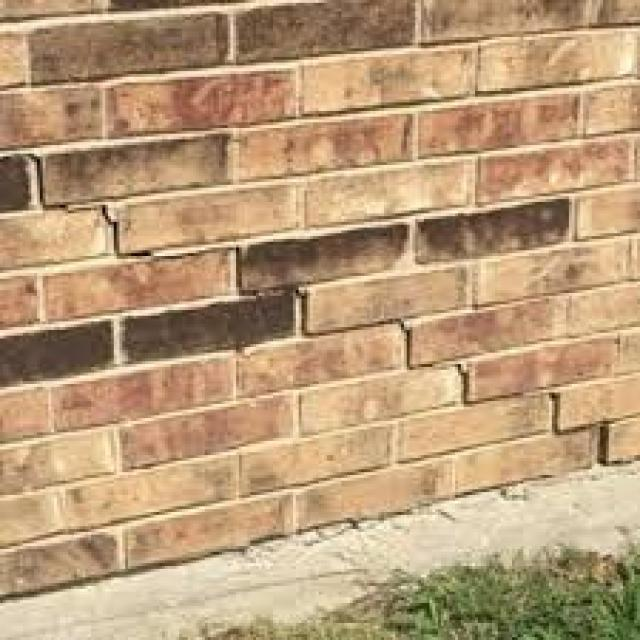Crack: (0, 142, 617, 467)
